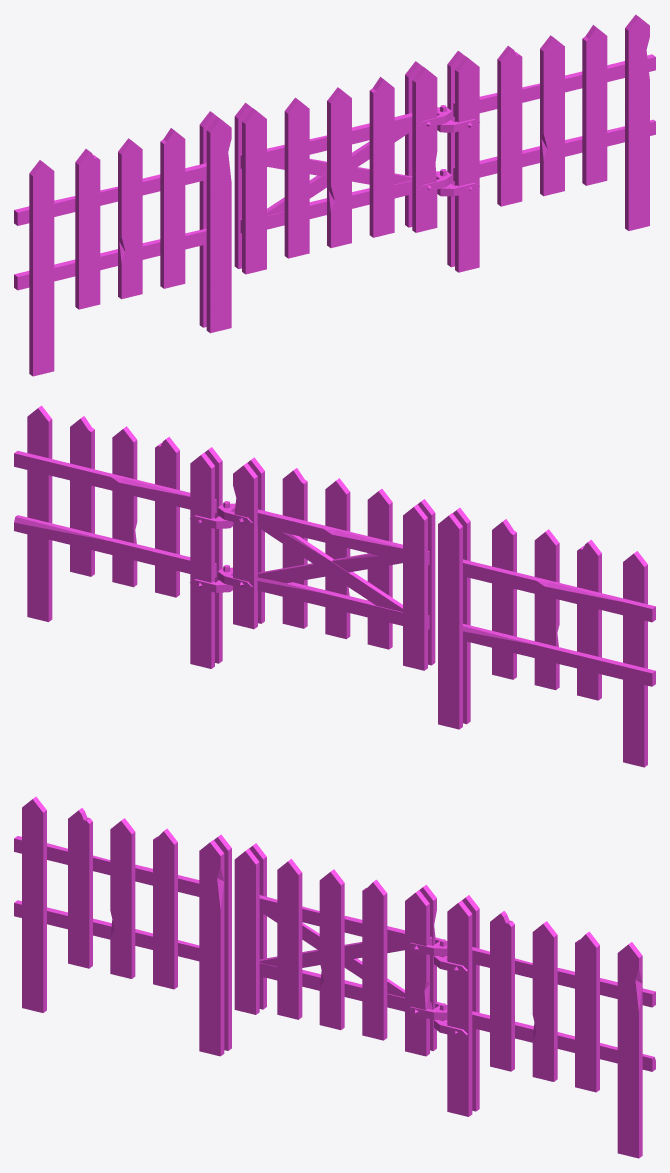
The model's file is SM_Fence_Picket_Gate.fbx.
3 renders of one model, top to bottom at view 1: azimuth 30°, elevation 25°; view 2: azimuth 150°, elevation 25°; view 3: azimuth 330°, elevation 25°, orthographic.
Visible parts, largest first — view 1: SM_Fence_Picket_Gate_Base, SM_Fence_Picket_Gate_Door; view 2: SM_Fence_Picket_Gate_Base, SM_Fence_Picket_Gate_Door; view 3: SM_Fence_Picket_Gate_Base, SM_Fence_Picket_Gate_Door.
Boxes of the visible parts, bbox=[...] form: SM_Fence_Picket_Gate_Base: bbox=[14, 14, 655, 376]; SM_Fence_Picket_Gate_Door: bbox=[234, 61, 451, 274]; SM_Fence_Picket_Gate_Base: bbox=[14, 405, 655, 767]; SM_Fence_Picket_Gate_Door: bbox=[218, 457, 435, 670]; SM_Fence_Picket_Gate_Base: bbox=[14, 796, 655, 1158]; SM_Fence_Picket_Gate_Door: bbox=[234, 843, 447, 1056].
Bounding box in the file's own units: 3 × 0.9499 × 0.1356.
